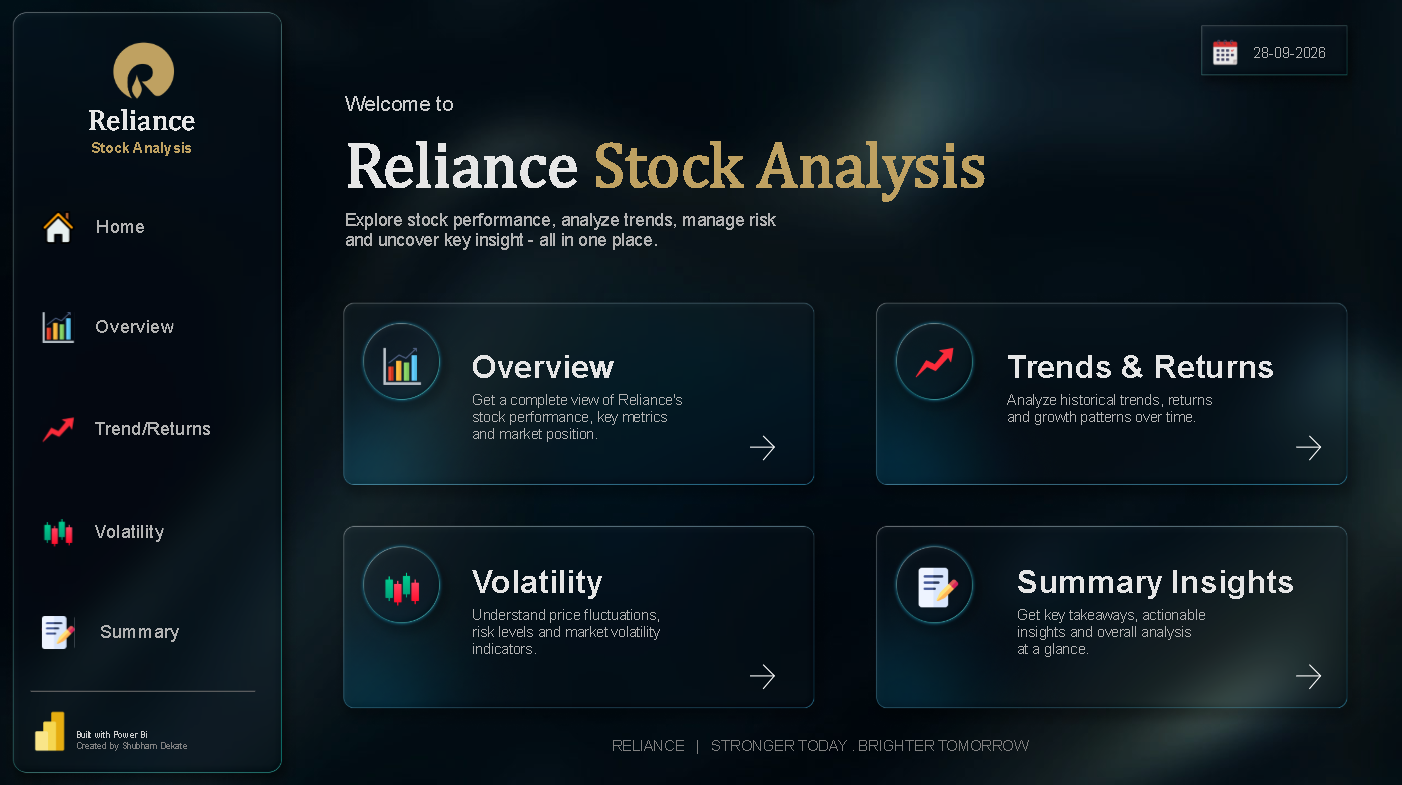

This screenshot's page, from the dashboard's own definition file:
{"tool":"powerbi","page":{"name":"Home","canvas":[2560,1440],"ordinal":0},"visuals":[{"type":"group","id":"g1","title":"Group 5","box":[60.8,64,408,1232],"z":0},{"type":"image","box":[2208,72,48,48],"z":0,"group":"g5"},{"type":"textbox","box":[164.8,193.9,200,62.1],"z":0,"group":"g12"},{"type":"textbox","box":[632,240,1296,144],"z":0,"group":"g13"},{"type":"textbox","box":[864,634,288,96],"z":0,"group":"g8"},{"type":"group","id":"g2","title":"Group 6","box":[864,634,1500,224],"z":0,"group":"g4"},{"type":"textbox","box":[1836,634,512,96],"z":0,"group":"g6"},{"type":"textbox","box":[864,1024,288,96],"z":0,"group":"g7"},{"type":"textbox","box":[1856,1024,544,96],"z":0,"group":"g9"},{"type":"image","box":[48,1296,96,72],"z":0,"group":"g11"},{"type":"textbox","box":[2282,82,144,32],"z":1000,"group":"g5"},{"type":"textbox","box":[632,384,1176,144],"z":1000,"group":"g13"},{"type":"textbox","box":[864,714,528,144],"z":1000,"group":"g8"},{"type":"textbox","box":[1836,714,528,144],"z":1000,"group":"g6"},{"type":"group","id":"g3","title":"Group 7","box":[864,1024,1536,224],"z":1000,"group":"g4"},{"type":"textbox","box":[864,1104,528,144],"z":1000,"group":"g7"},{"type":"textbox","box":[1856,1104,528,144],"z":1000,"group":"g9"},{"type":"textbox","box":[144,1328,224,48],"z":1000,"group":"g11"},{"type":"textbox","box":[1088,1344,864,48],"z":1000},{"type":"image","box":[204.8,64,120,131.9],"z":2000,"group":"g12"},{"type":"textbox","box":[168.8,254,192,32],"z":2000,"group":"g14"},{"type":"group","id":"g4","title":"Group 8","box":[864,634,1536,614],"z":2000},{"type":"group","id":"g5","title":"Group 1","box":[2208,72,216,48],"z":3000},{"type":"group","id":"g6","title":"Group 2","box":[1836,634,528,224],"z":3000,"group":"g2"},{"type":"image","box":[688,632,96,72],"z":4000},{"type":"group","id":"g7","title":"Group 2","box":[864,1024,544,224],"z":4000,"group":"g3"},{"type":"image","box":[1656,624,96,72],"z":5000},{"type":"group","id":"g8","title":"Group 2","box":[864,634,528,224],"z":5000,"group":"g2"},{"type":"group","id":"g9","title":"Group 2","box":[1856,1024,544,224],"z":6000,"group":"g3"},{"type":"image","box":[688,1036,96,72],"z":6000},{"type":"image","box":[1664,1035,96,72],"z":7000},{"type":"actionButton","box":[1344,768,96,96],"z":8000},{"type":"actionButton","box":[2336,768,96,96],"z":9000},{"type":"actionButton","box":[60.8,360,408,112],"z":10000,"group":"g10"},{"type":"actionButton","box":[1344,1184,96,96],"z":10000},{"type":"group","id":"g10","title":"Group 1","box":[60.8,360,408,936],"z":11000,"group":"g1"},{"type":"actionButton","box":[60.8,541.9,408,112],"z":11000,"group":"g10"},{"type":"actionButton","box":[2336,1184,96,96],"z":11000},{"type":"actionButton","box":[60.8,913.6,408,112],"z":12000,"group":"g10"},{"type":"group","id":"g11","title":"Group 9","box":[48,1296,320,80],"z":12000},{"type":"textbox","box":[632,168,240,72],"z":12001,"group":"g13"},{"type":"group","id":"g12","title":"Group 3","box":[164.8,64,200,192],"z":13000,"group":"g14"},{"type":"group","id":"g13","title":"Group 10","box":[632,168,1296,360],"z":13000},{"type":"actionButton","box":[60.8,723.8,408,120],"z":13000,"group":"g10"},{"type":"group","id":"g14","title":"Group 4","box":[164.8,64,200,222],"z":13001,"group":"g1"},{"type":"actionButton","box":[60.8,1095.5,408,112],"z":14000,"group":"g10"},{"type":"shape","box":[60.8,1224,408,72],"z":15000,"group":"g10"}]}

Visuals, with their boxes in screenshot pixels (x1, y1, x2, y2), scaled from the page's 2560x1440 canvas onto the 1402x785 screenshot:
"Group 5" group: (33, 35, 257, 706)
image: (1209, 39, 1236, 65)
textbox: (90, 106, 200, 140)
textbox: (346, 131, 1056, 209)
textbox: (473, 346, 631, 398)
"Group 6" group: (473, 346, 1295, 468)
textbox: (1005, 346, 1286, 398)
textbox: (473, 558, 631, 611)
textbox: (1016, 558, 1314, 611)
image: (26, 706, 79, 746)
textbox: (1250, 45, 1329, 62)
textbox: (346, 209, 990, 288)
textbox: (473, 389, 762, 468)
textbox: (1005, 389, 1295, 468)
"Group 7" group: (473, 558, 1314, 680)
textbox: (473, 602, 762, 680)
textbox: (1016, 602, 1306, 680)
textbox: (79, 724, 202, 750)
textbox: (596, 733, 1069, 759)
image: (112, 35, 178, 107)
textbox: (92, 138, 198, 156)
"Group 8" group: (473, 346, 1314, 680)
"Group 1" group: (1209, 39, 1328, 65)
"Group 2" group: (1005, 346, 1295, 468)
image: (377, 345, 429, 384)
"Group 2" group: (473, 558, 771, 680)
image: (907, 340, 959, 379)
"Group 2" group: (473, 346, 762, 468)
"Group 2" group: (1016, 558, 1314, 680)
image: (377, 565, 429, 604)
image: (911, 564, 964, 603)
actionButton: (736, 419, 789, 471)
actionButton: (1279, 419, 1332, 471)
actionButton: (33, 196, 257, 257)
actionButton: (736, 645, 789, 698)
"Group 1" group: (33, 196, 257, 706)
actionButton: (33, 295, 257, 356)
actionButton: (1279, 645, 1332, 698)
actionButton: (33, 498, 257, 559)
"Group 9" group: (26, 706, 202, 750)
textbox: (346, 92, 478, 131)
"Group 3" group: (90, 35, 200, 140)
"Group 10" group: (346, 92, 1056, 288)
actionButton: (33, 395, 257, 460)
"Group 4" group: (90, 35, 200, 156)
actionButton: (33, 597, 257, 658)
shape: (33, 667, 257, 706)
